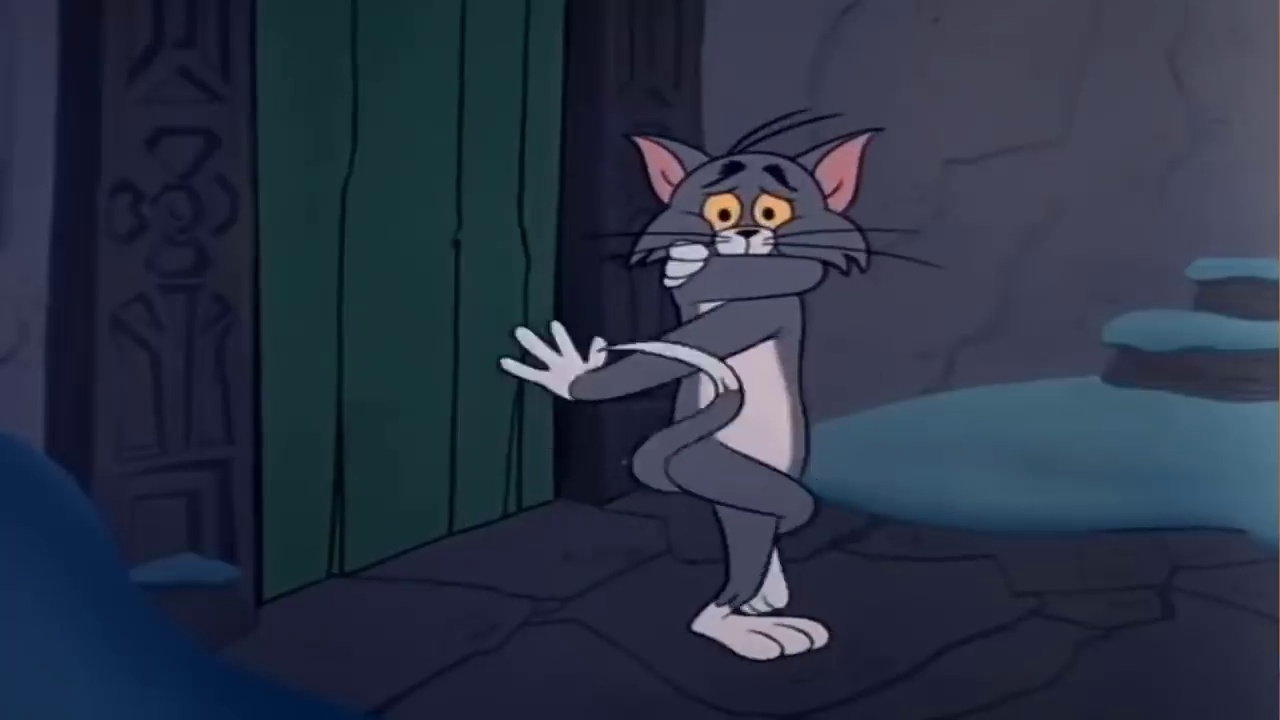face: (687, 159, 814, 259)
